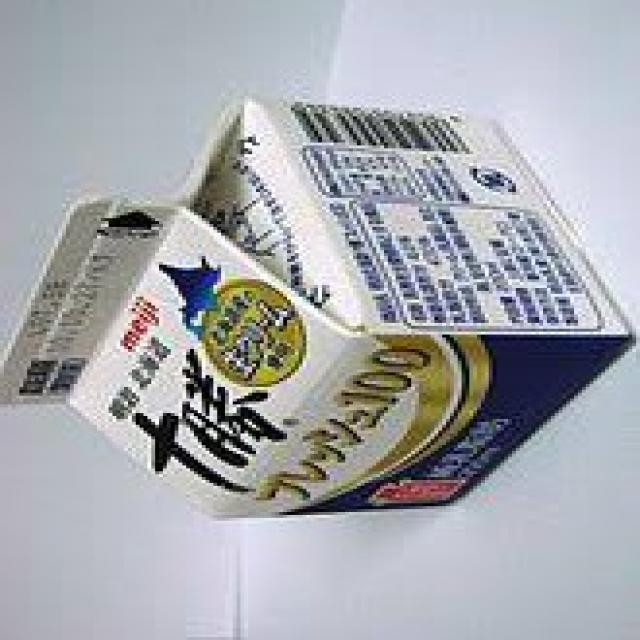non_white_jug: (4, 99, 618, 523)
